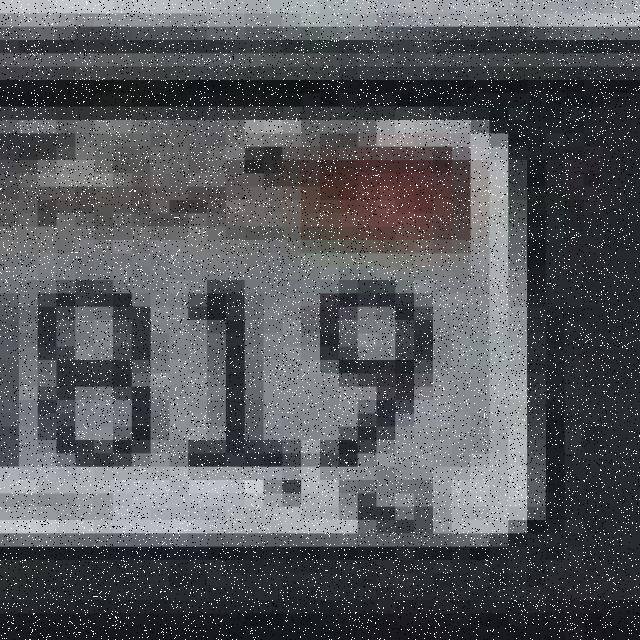licenseplate: (11, 130, 567, 574)
